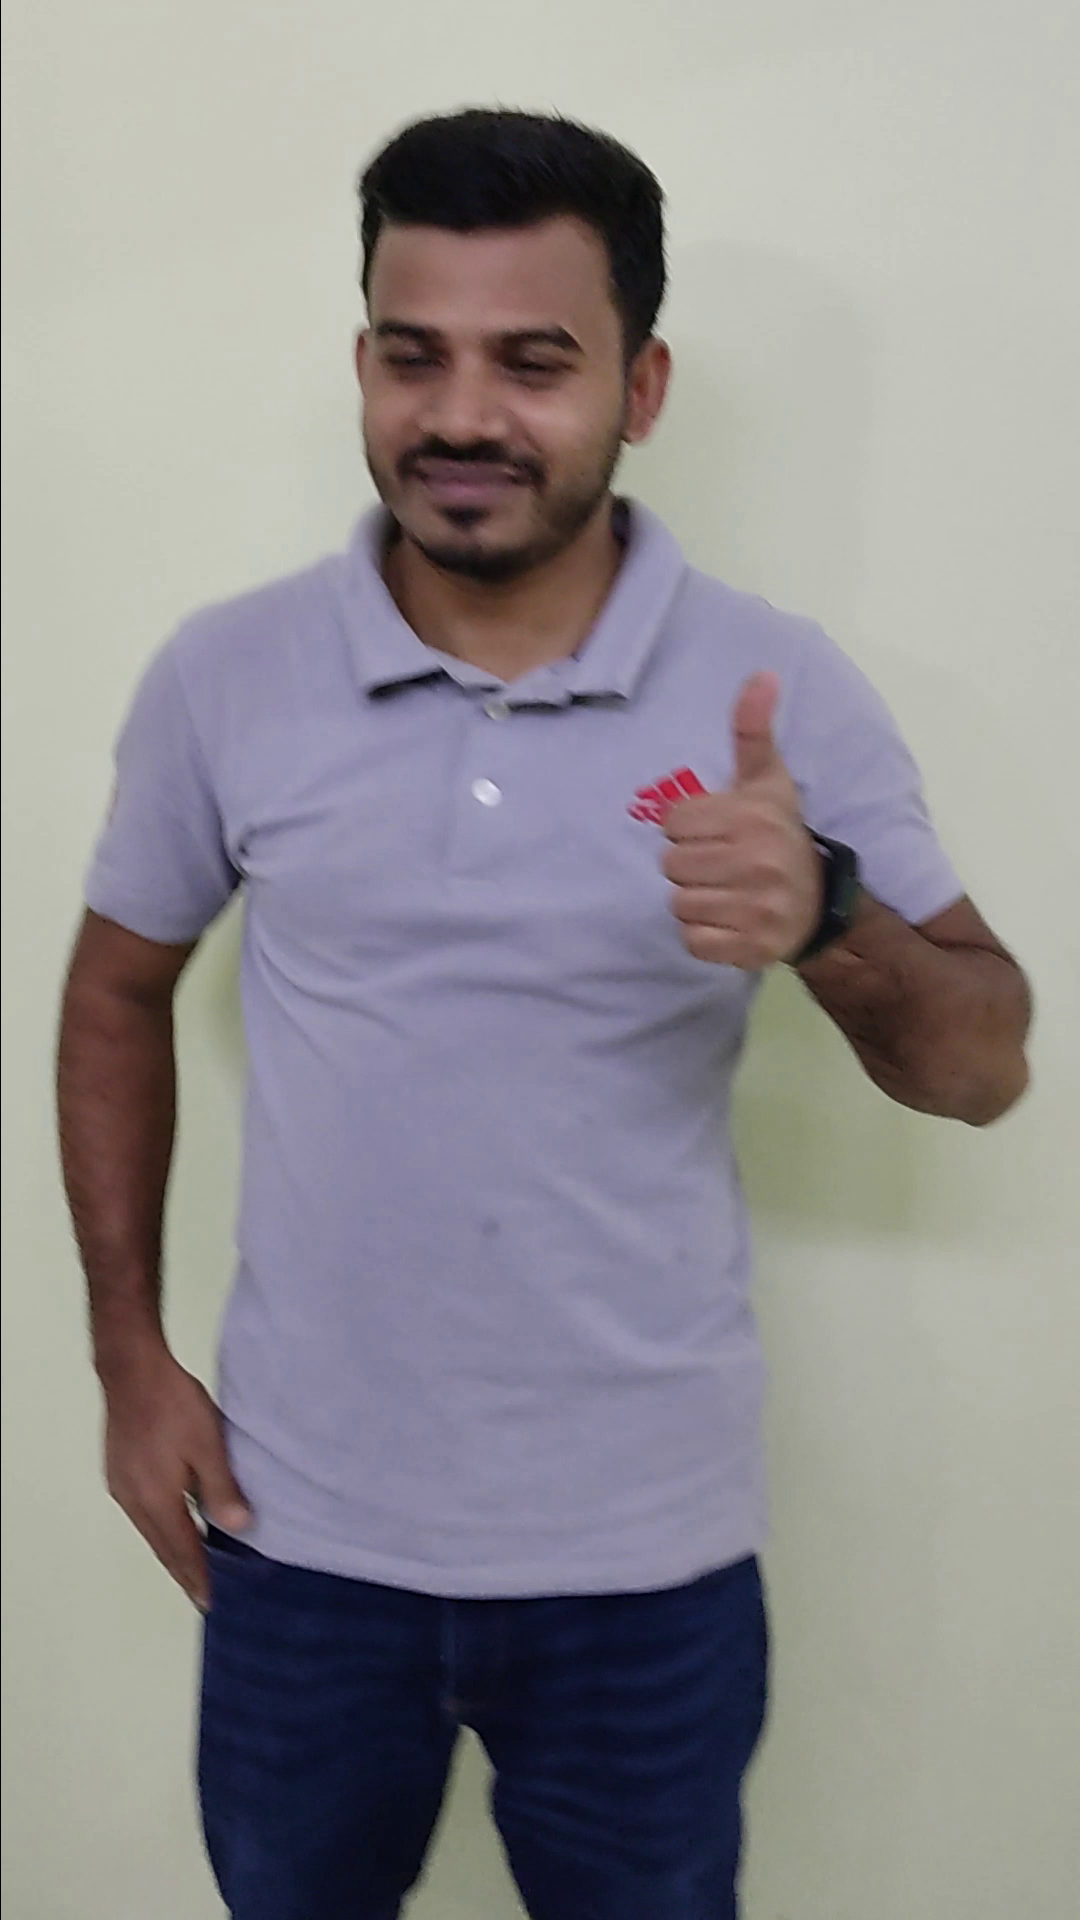Like: (628, 650, 853, 982)
None: (83, 1331, 274, 1629)
